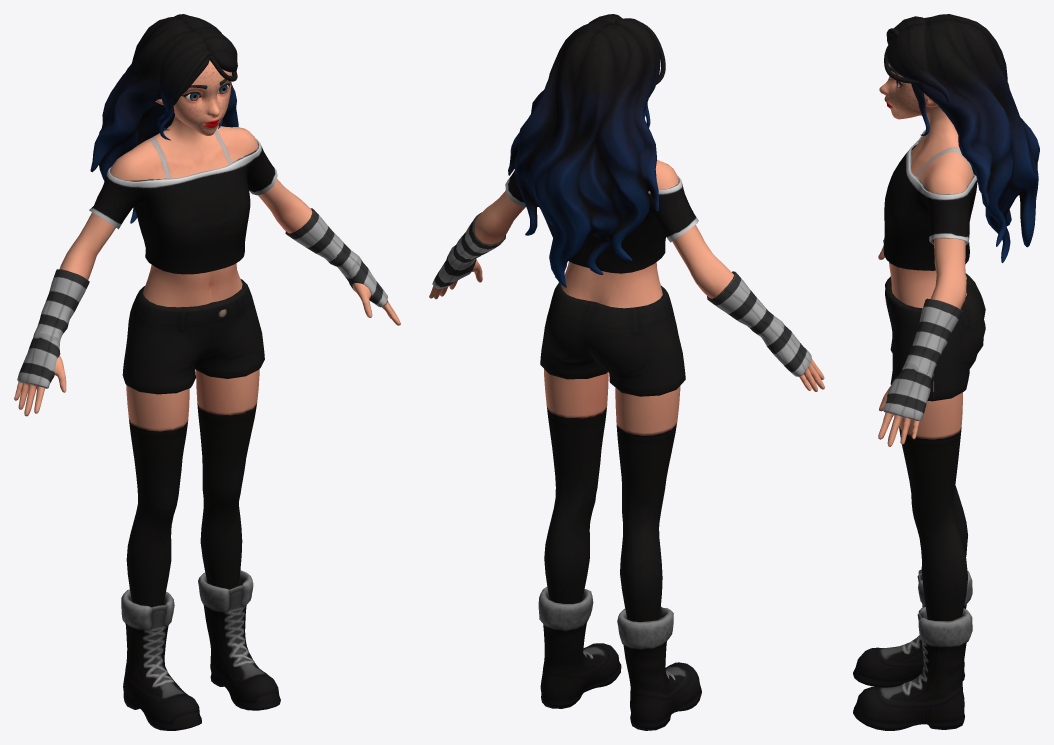
The model's file is Blue_Mesh.obj.
3 renders of one model, left to right at view 1: azimuth 30°, elevation 25°; view 2: azimuth 150°, elevation 25°; view 3: azimuth 270°, elevation 25°, orthographic. The views are drawn at different scales.
Visible parts, largest first — view 1: Blue_Mesh_0; view 2: Blue_Mesh_0; view 3: Blue_Mesh_0.
Boxes of the visible parts, box(x1,y1,x2,y2) form: Blue_Mesh_0: box(14, 14, 400, 730); Blue_Mesh_0: box(429, 14, 824, 730); Blue_Mesh_0: box(853, 14, 1039, 730).
Size of the model in its own units: 1.06 by 1.8 by 0.4476.
Materials: 1 (1 with a texture image).
